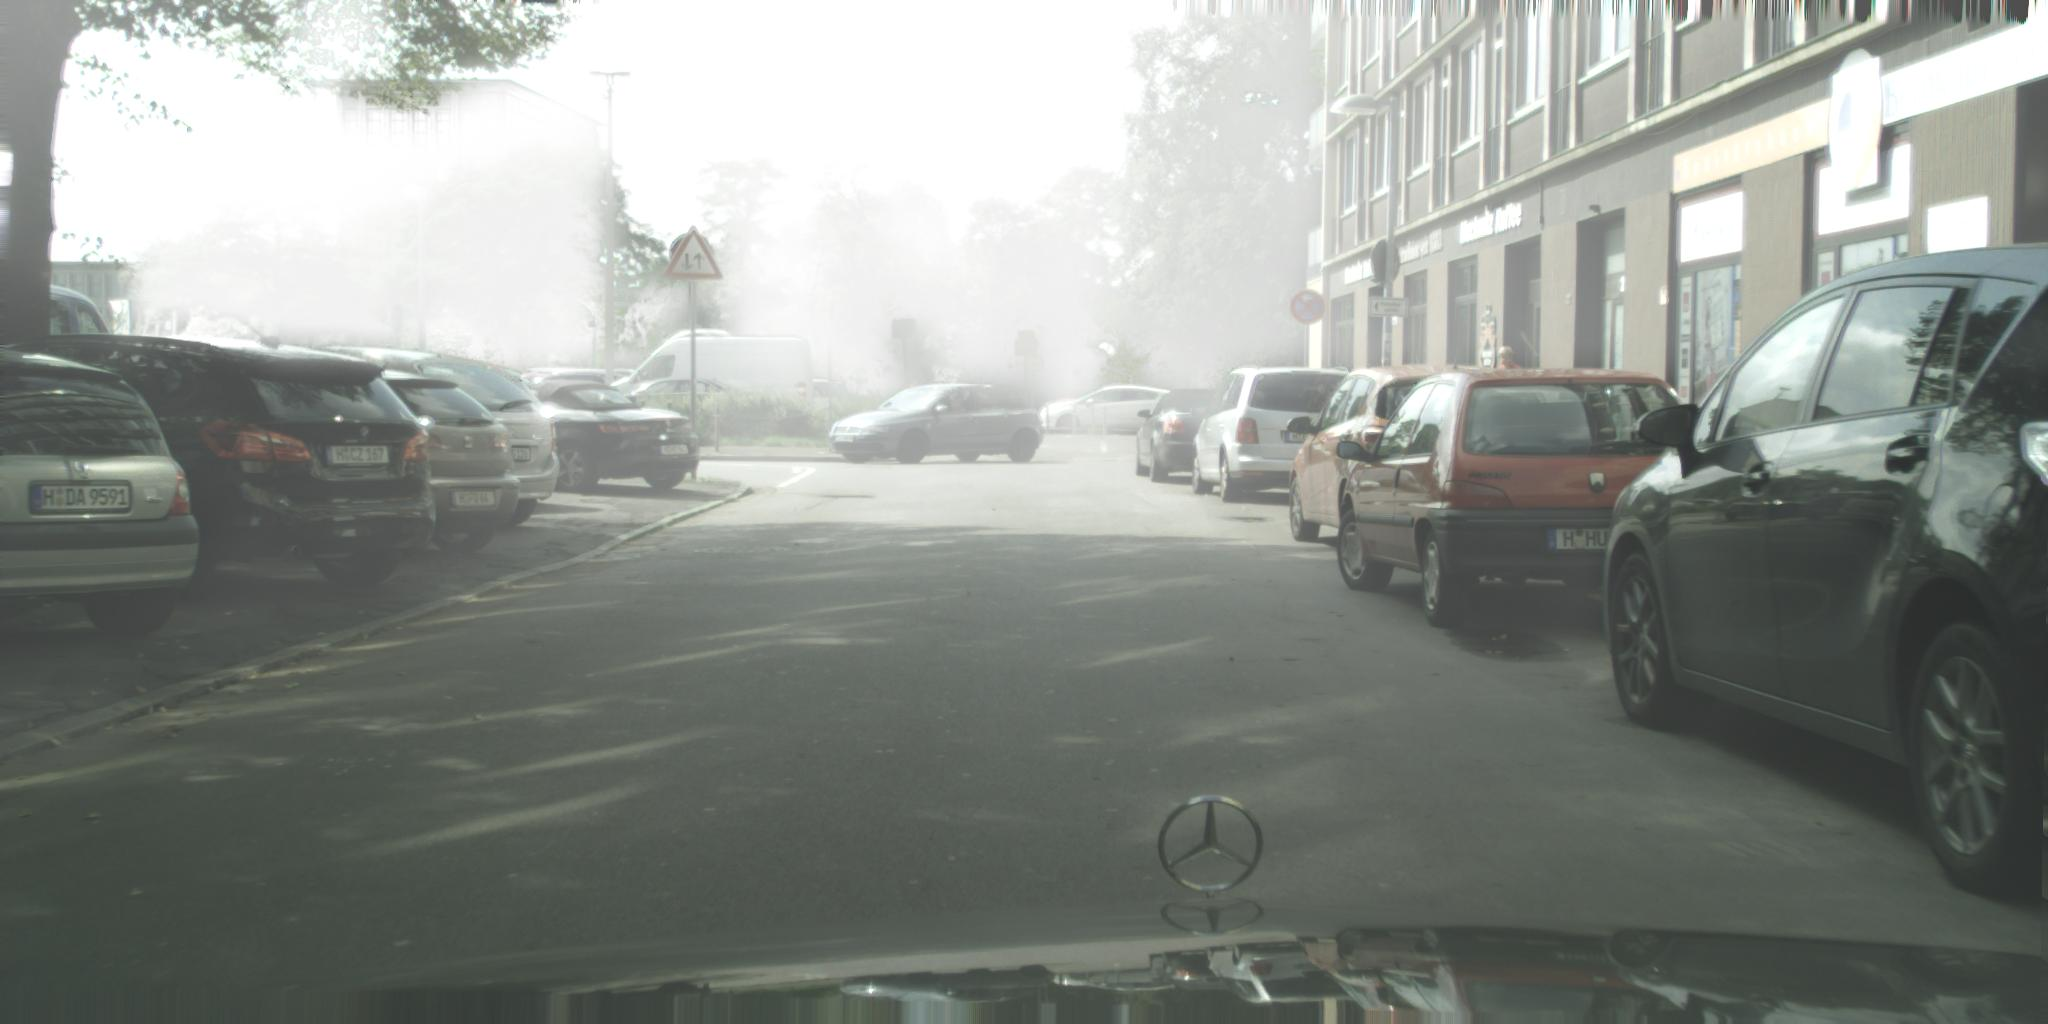car: (1603, 242, 2048, 904), (1, 334, 438, 603), (1337, 370, 1731, 628), (1, 350, 201, 639), (310, 345, 563, 528), (311, 368, 522, 554), (1288, 364, 1499, 543), (583, 329, 814, 427), (503, 381, 700, 494), (1191, 364, 1349, 504), (829, 383, 1045, 465), (1, 283, 114, 371), (1138, 391, 1237, 485), (1136, 391, 1224, 485), (1023, 387, 1179, 432), (614, 379, 778, 421), (777, 377, 853, 424)
